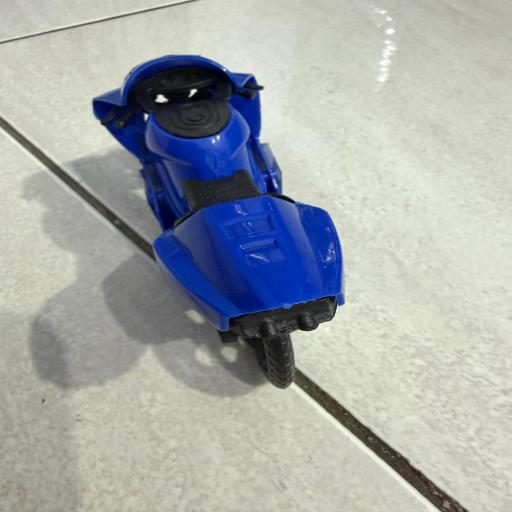motor-biru: (73, 48, 351, 397)
